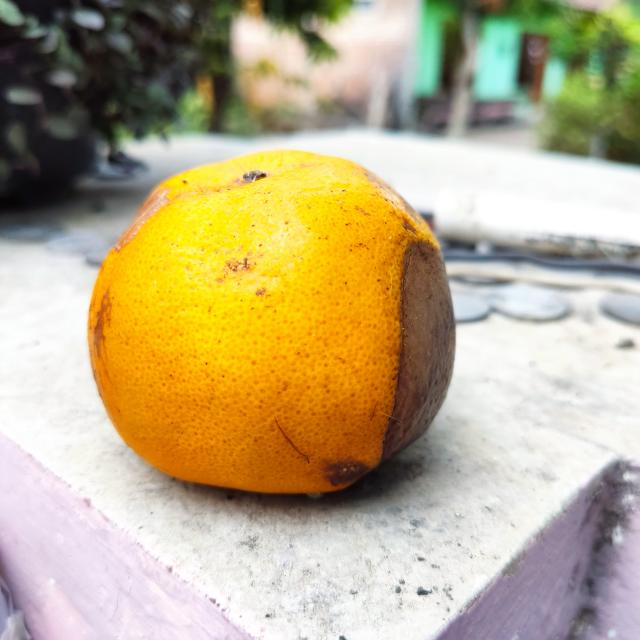orange: (86, 148, 456, 494)
